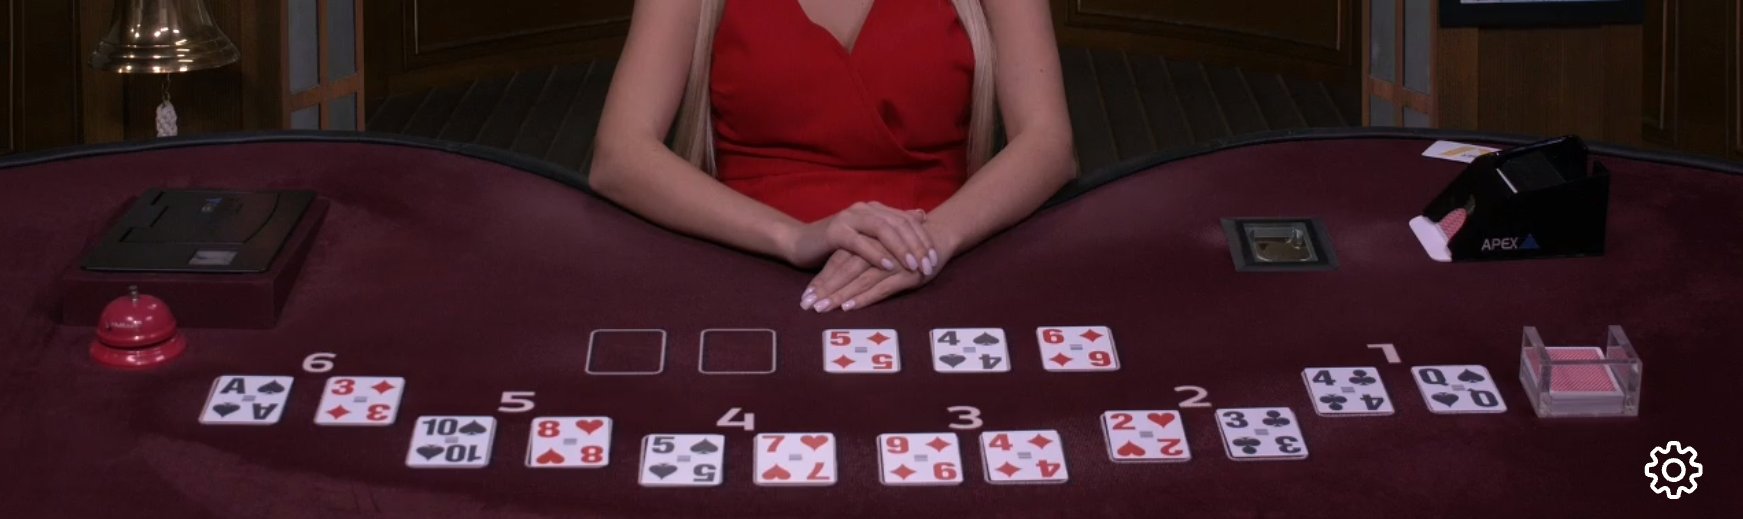10s: (406, 415, 501, 467)
2h: (1097, 408, 1198, 466)
3c: (1215, 403, 1318, 465)
3d: (313, 373, 410, 428)
4c: (1299, 362, 1400, 419)
4d: (977, 425, 1076, 486)
4s: (925, 325, 1019, 378)
5d: (819, 322, 905, 379)
5s: (639, 430, 728, 490)
6d: (1033, 322, 1122, 376)
7h: (750, 427, 846, 490)
8h: (525, 409, 622, 471)
9d: (878, 426, 969, 491)
ass: (201, 375, 293, 427)
qs: (1412, 362, 1515, 416)
